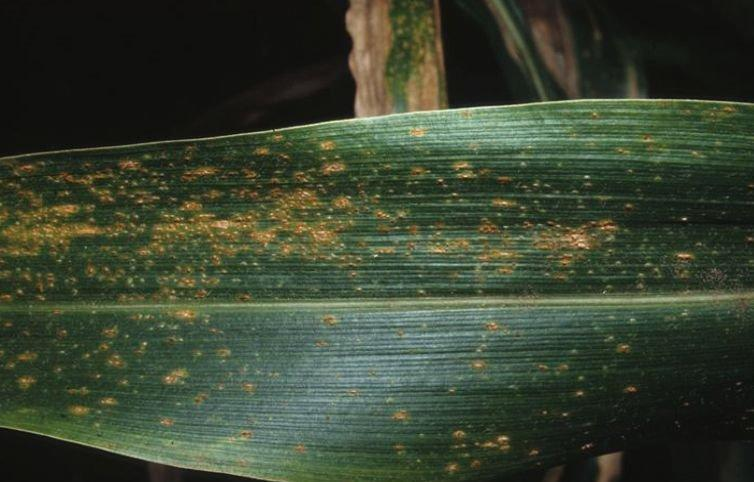Corn rust leaf: (2, 105, 749, 482)
